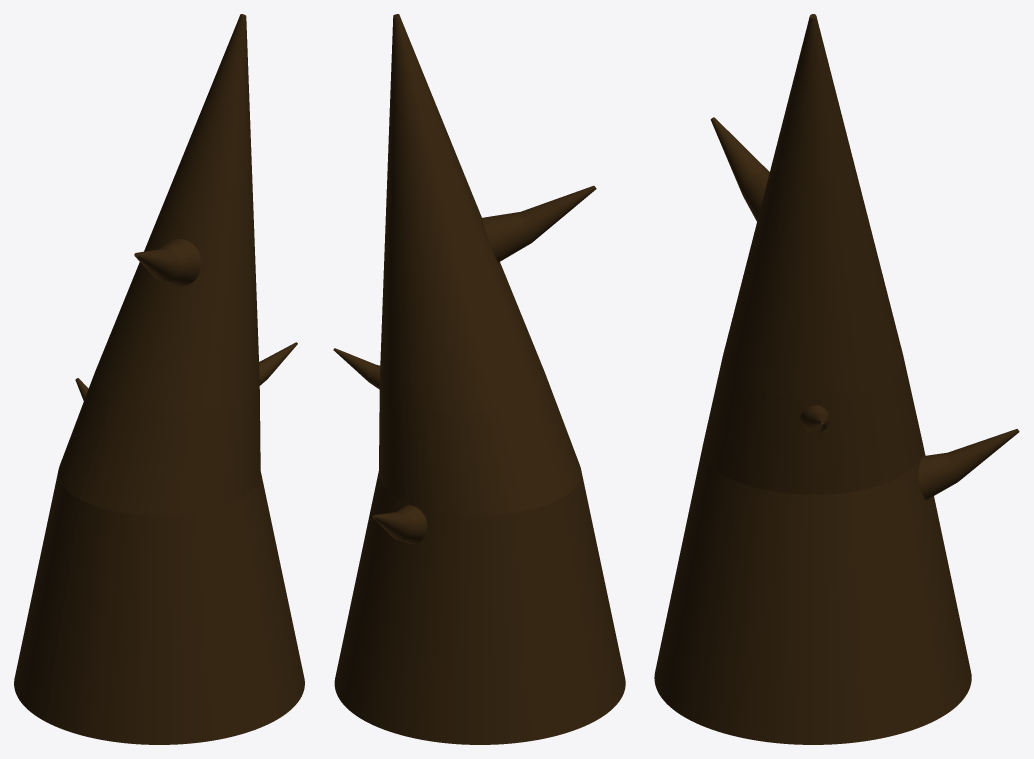
The model's file is Ship_kotoriy_Derevo.fbx.
3 views of the same model, side by side, from view 1: azimuth 30°, elevation 25°; view 2: azimuth 150°, elevation 25°; view 3: azimuth 270°, elevation 25° (orthographic). The views are drawn at different scales.
Parts seen in each view (by area): view 1: Цилиндр; view 2: Цилиндр; view 3: Цилиндр.
Boxes of the visible parts, box(x1,y1,x2,y2) form: Цилиндр: box(14, 14, 304, 744); Цилиндр: box(333, 14, 625, 744); Цилиндр: box(654, 14, 1019, 744).
Bounding box in the file's own units: 267 × 616 × 288.
